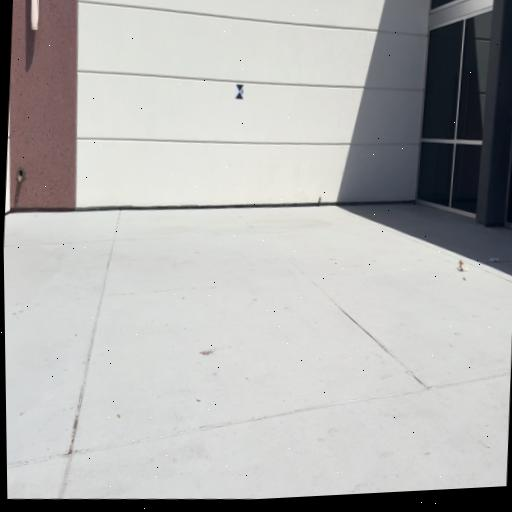target4: (235, 84, 245, 100)
